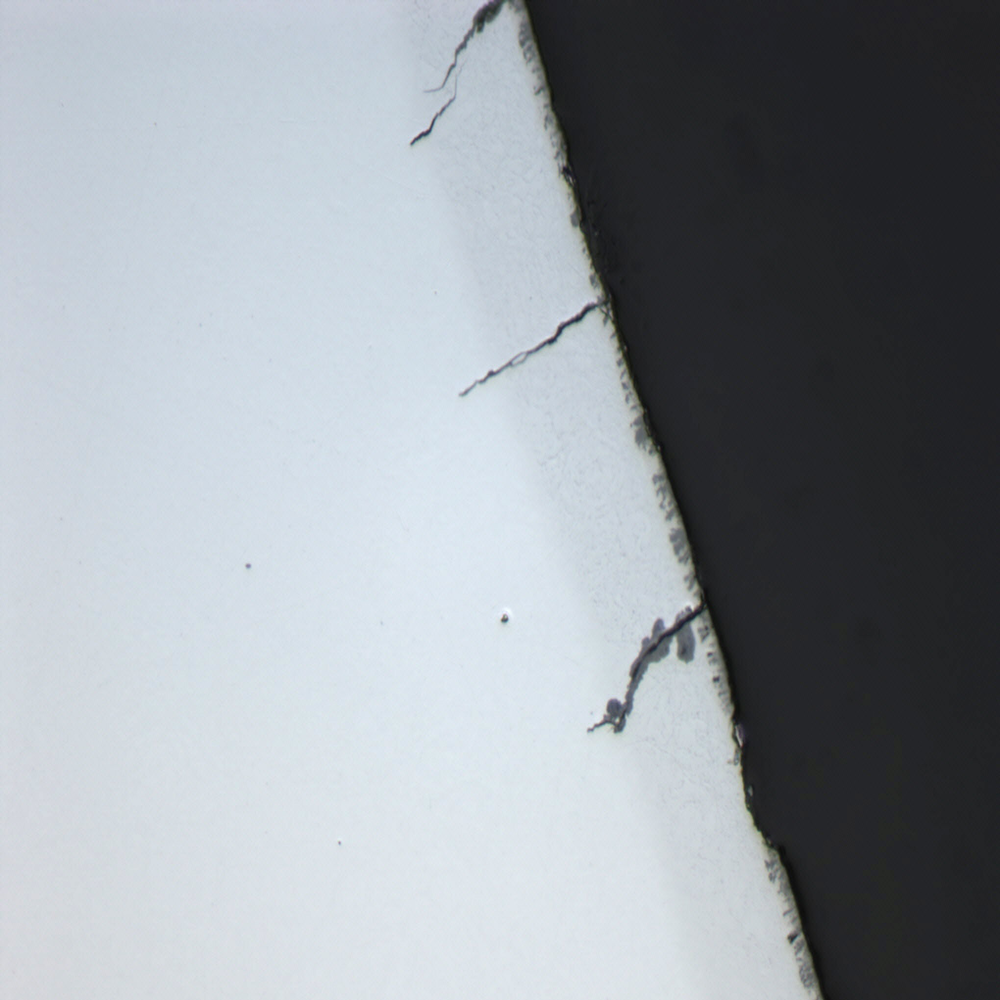crack: (403, 1, 537, 183), (442, 296, 612, 438), (574, 588, 712, 760)
